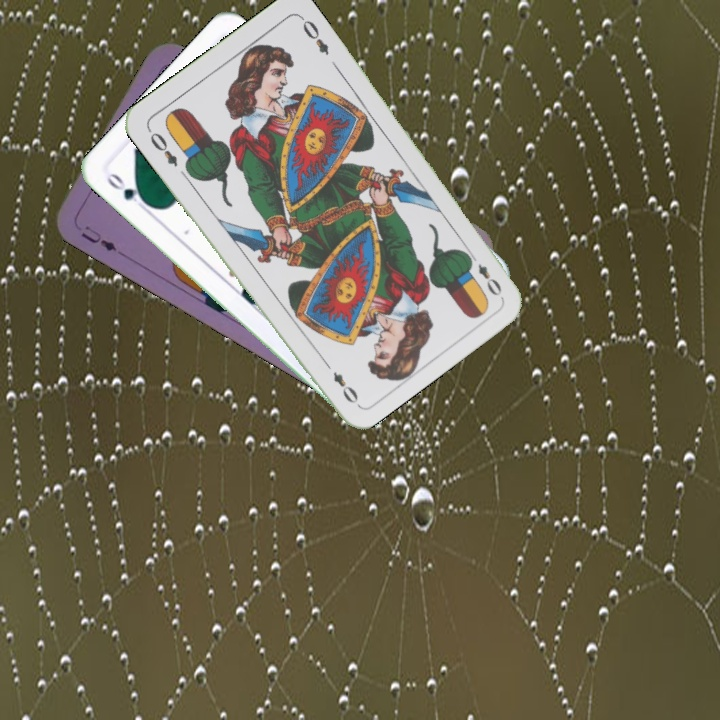EO: (464, 249, 505, 299), (146, 128, 181, 170)
EU: (77, 221, 119, 254)
GO: (102, 167, 153, 214)
